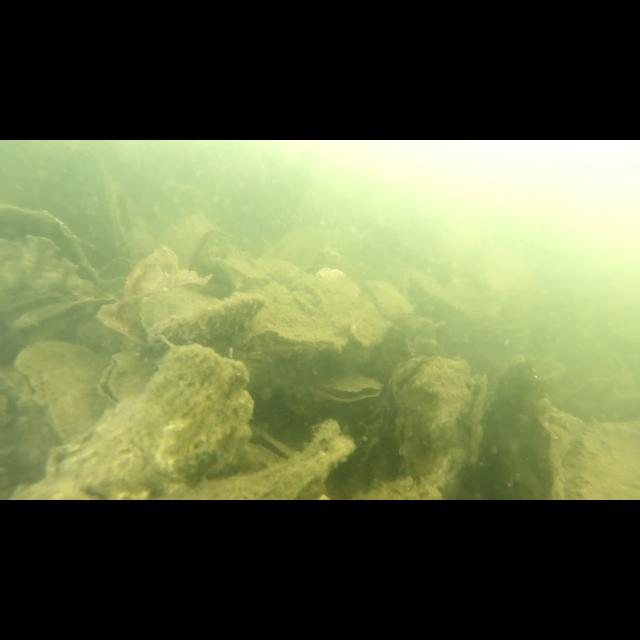Oyster-Closed: (36, 344, 254, 500), (394, 354, 481, 500), (150, 292, 268, 350), (375, 312, 441, 392), (243, 304, 344, 354), (215, 252, 268, 286)
Oyster-Indeterminate: (479, 360, 563, 500), (15, 338, 111, 444), (0, 200, 96, 300), (566, 418, 640, 500), (9, 294, 112, 330), (119, 246, 177, 294)
Oyster-Open: (94, 348, 158, 404), (188, 227, 235, 285), (305, 372, 383, 404), (242, 426, 294, 470), (96, 256, 136, 296)
